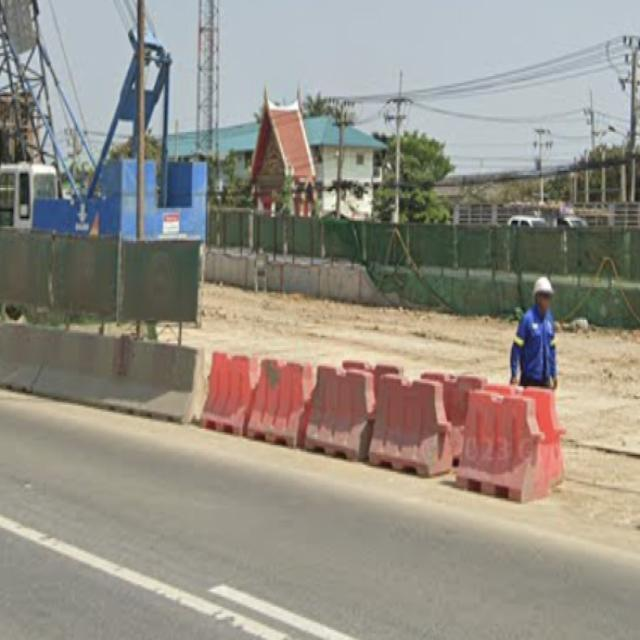fallen_object: (299, 346, 467, 481), (170, 313, 328, 450), (3, 319, 200, 420), (439, 363, 562, 500)
